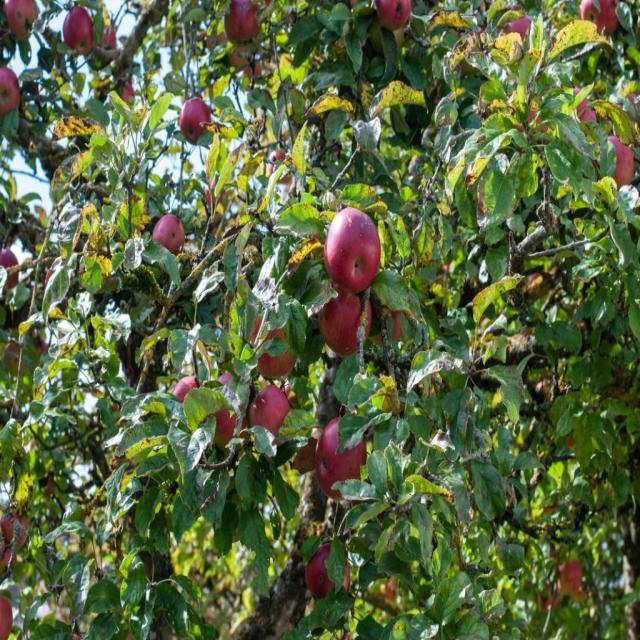Red Apple: (324, 204, 380, 293), (320, 279, 373, 354), (254, 306, 307, 376), (253, 384, 299, 459), (319, 418, 364, 491), (209, 374, 252, 444), (310, 544, 359, 605), (598, 137, 634, 187), (2, 506, 31, 563), (63, 3, 96, 52), (581, 1, 621, 41), (179, 96, 211, 145), (227, 1, 262, 45), (4, 1, 41, 39), (173, 373, 203, 416), (570, 91, 602, 131), (374, 1, 414, 31), (154, 217, 185, 254), (508, 13, 537, 50), (1, 68, 22, 118), (559, 562, 585, 596), (1, 246, 19, 294), (383, 305, 406, 342), (1, 593, 16, 640), (236, 53, 259, 81), (536, 587, 560, 609), (105, 24, 121, 54), (382, 583, 402, 607), (271, 149, 287, 177), (122, 86, 138, 107)
